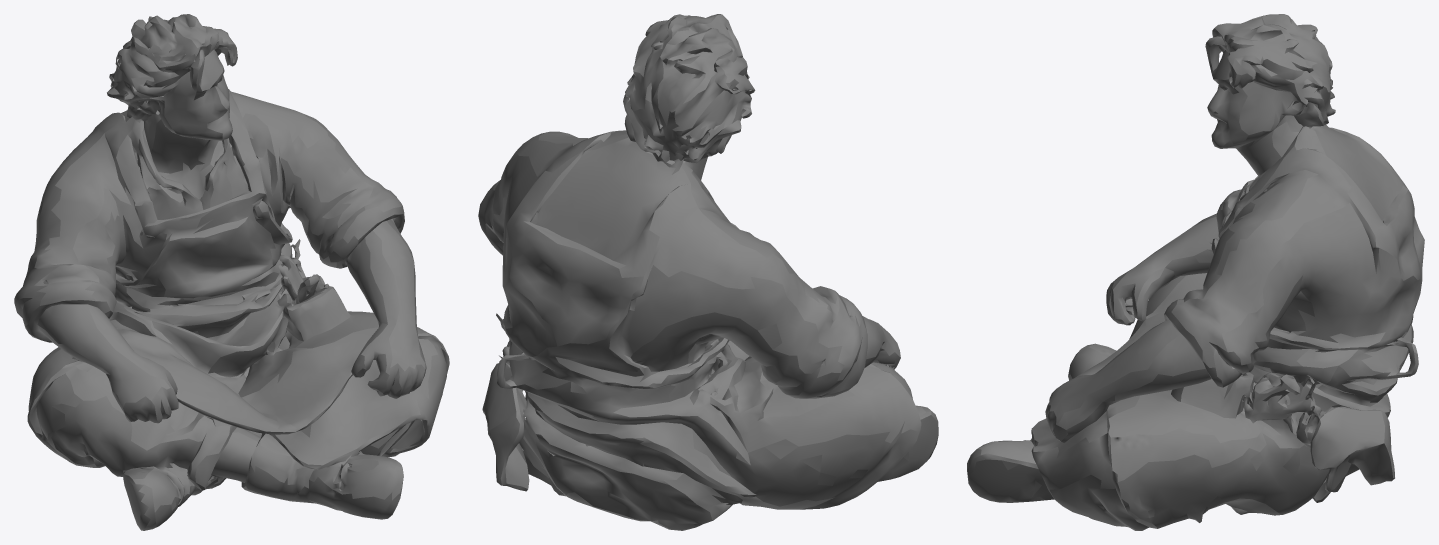
File: completion_potter_0.glb
The picture shows the model from 3 angles, left to right: view 1: azimuth 30°, elevation 25°; view 2: azimuth 150°, elevation 25°; view 3: azimuth 270°, elevation 25°; orthographic projection. The views are drawn at different scales.
Parts seen in each view (by area): view 1: geometry_0; view 2: geometry_0; view 3: geometry_0.
Boxes of the visible parts, x1,y1,x2,y2 form: geometry_0: (14, 14, 449, 530); geometry_0: (478, 14, 938, 530); geometry_0: (967, 14, 1424, 530).
Bounding box in the file's own units: 0.9198 × 1 × 0.922.
1 material, 1 textured.
